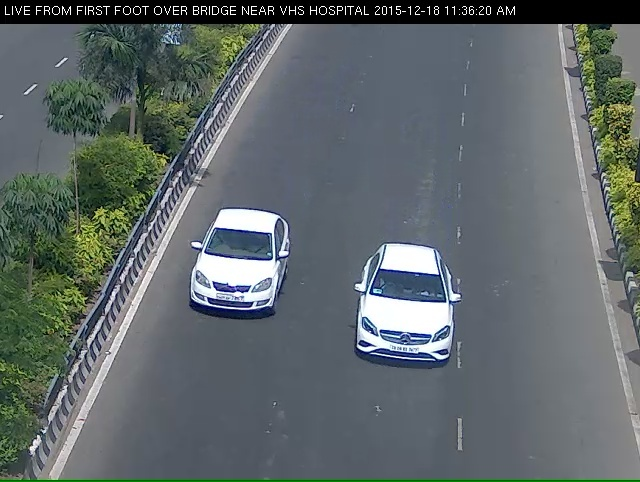Car: (350, 258, 472, 404), (173, 233, 283, 355)
